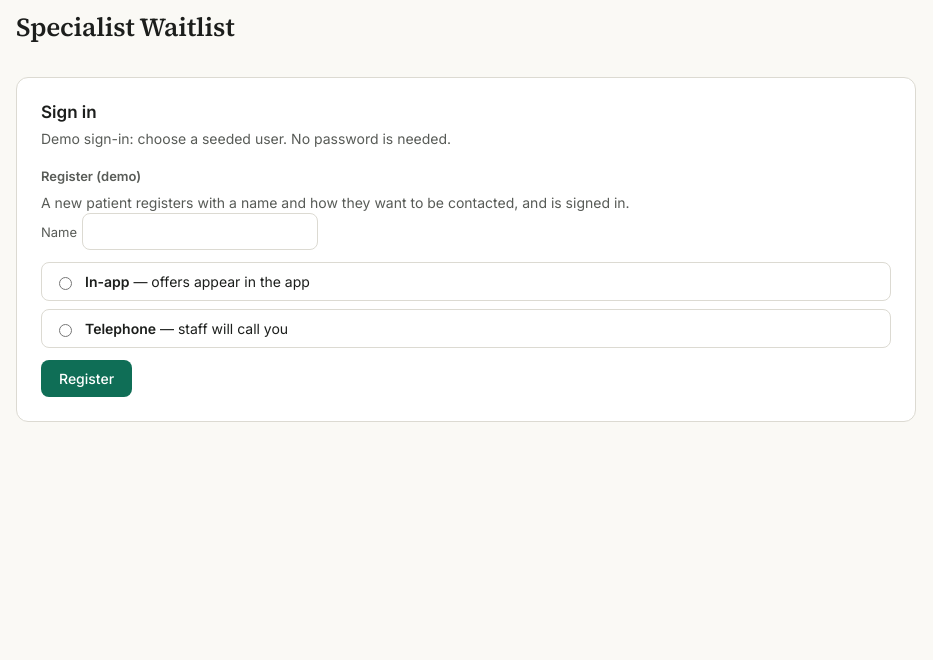
Scenario: demo registration on the sign-in screen (9.1) › refuses a name already in use and says they can sign in as that patient instead
Check: the heading "Register (demo)" is shown, box x1=41 y1=168 x2=141 y2=184
Type "Maria Gómez" into the field labelled "Name".
click(200, 232); type("Maria Gómez")  # box x1=82 y1=213 x2=318 y2=250
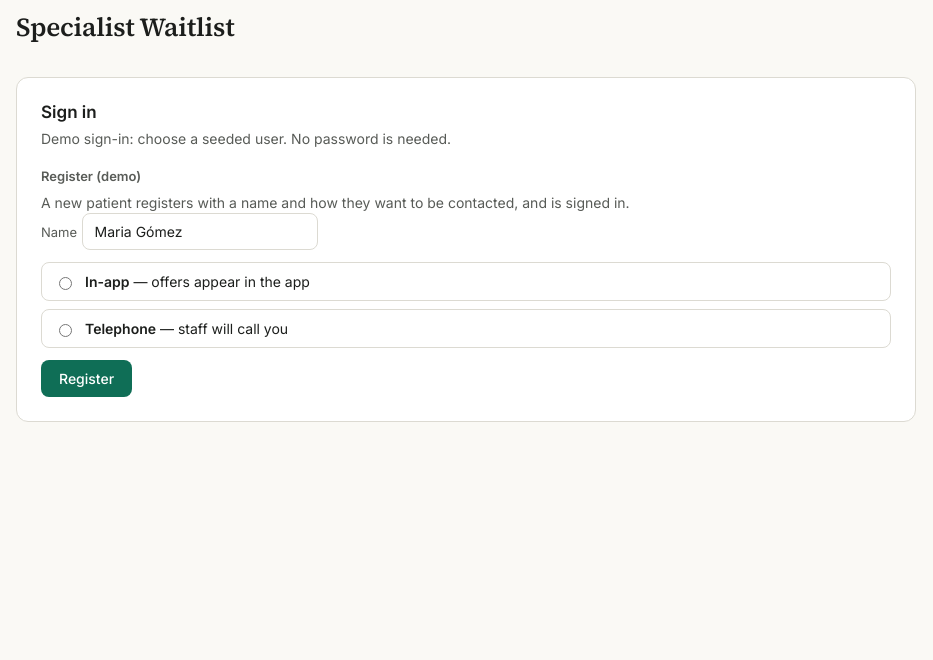
Click the radio button labelled "In-app — offers appear in the app".
click(66, 283)  # box x1=59 y1=277 x2=72 y2=290
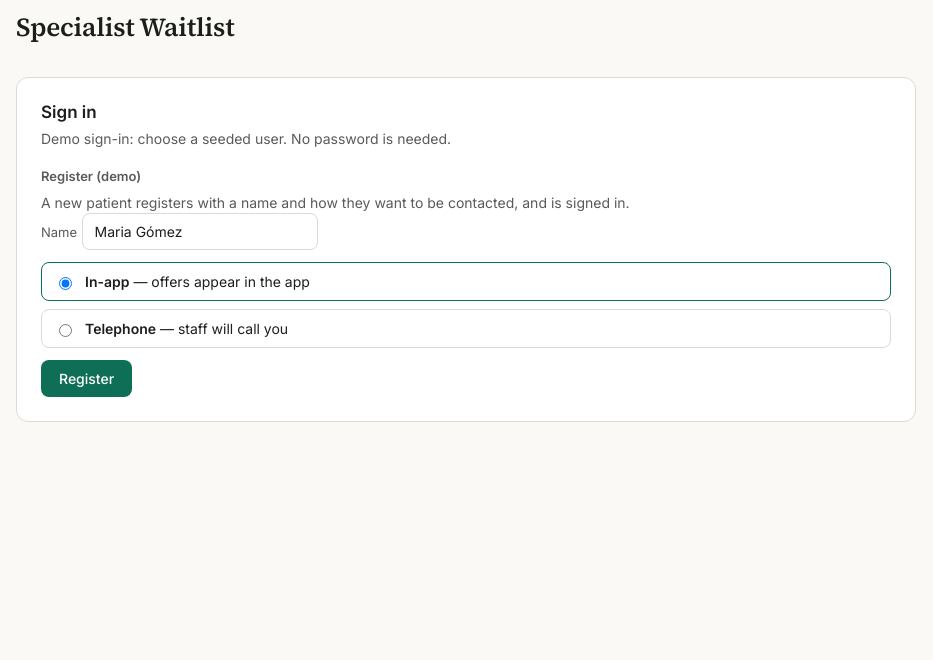
Click the button "Register".
click(87, 379)  # box x1=41 y1=360 x2=132 y2=397
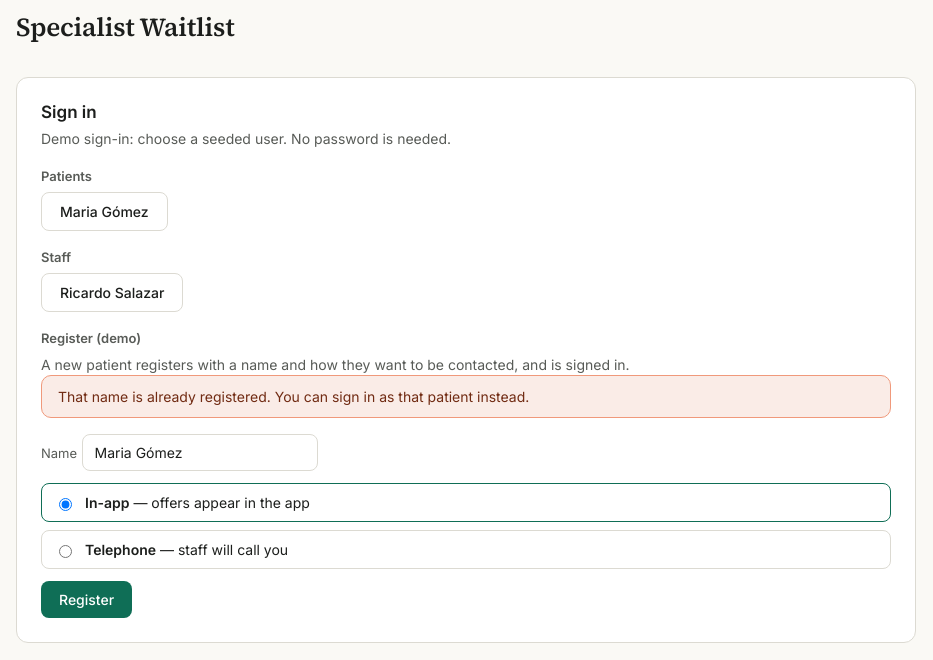
Check: the heading "Sign in" is shown, box x1=41 y1=102 x2=97 y2=122
Check: the message reads "That name is already registered. You can sign in as that patient instead.", box x1=58 y1=388 x2=529 y2=405
Check: the button "Maria Gómez" is shown, box x1=41 y1=192 x2=168 y2=231
